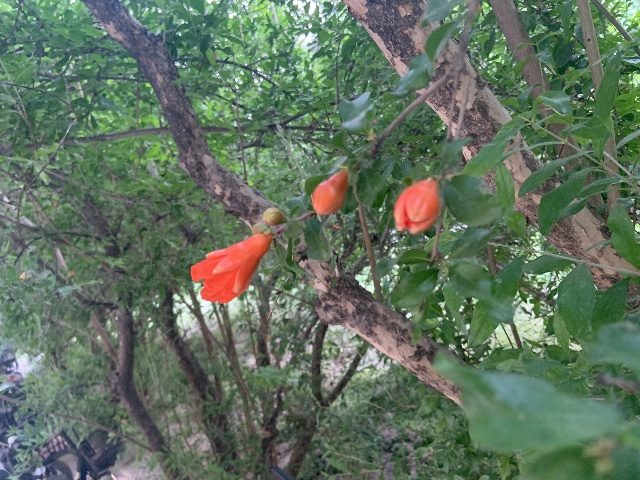bud: (393, 178, 440, 234), (312, 167, 349, 215), (263, 207, 284, 226)
flower: (190, 230, 270, 303)
